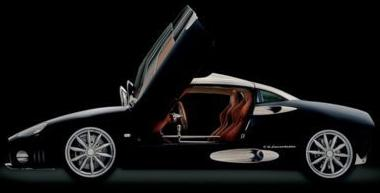headlight: (12, 120, 62, 141)
